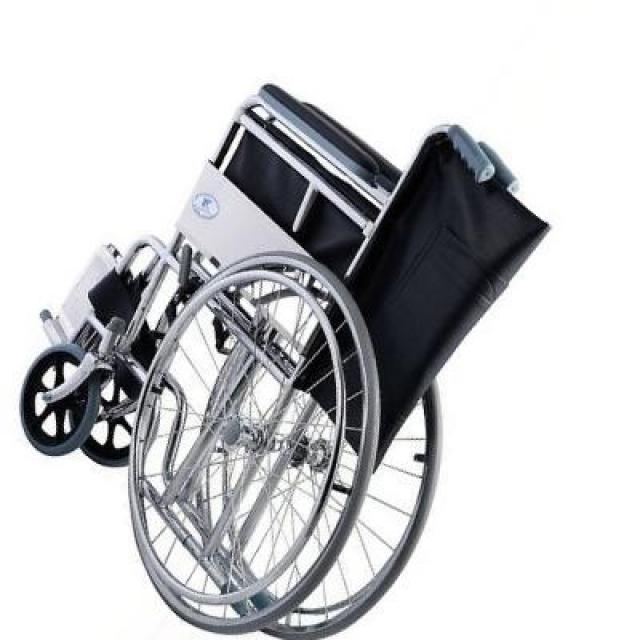wheelchair: (2, 78, 566, 640)
